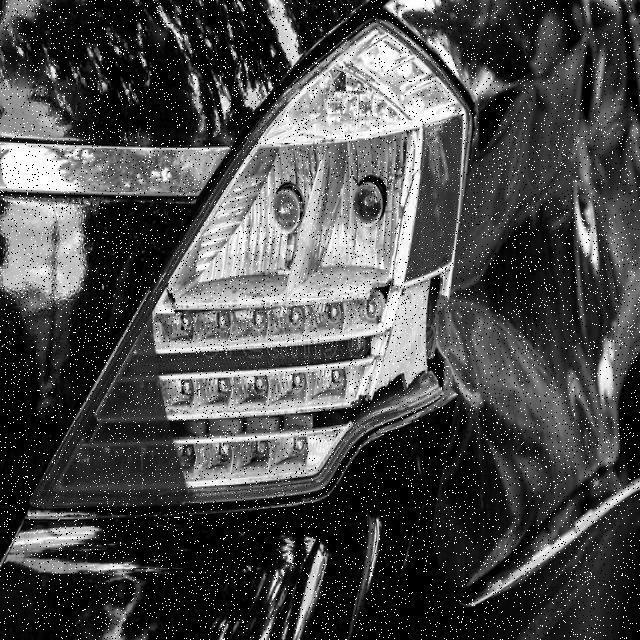Taillight-Damage: (72, 24, 465, 545)
